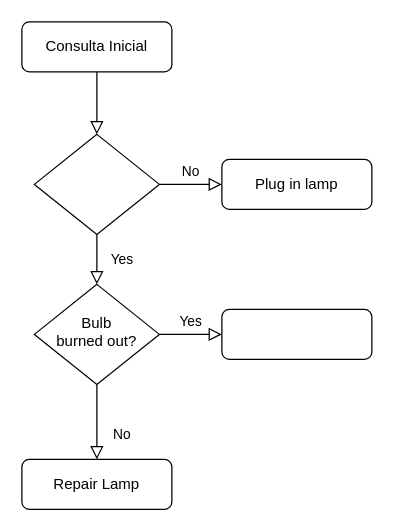
Some shapes in this 394 by 531 pixel diagram are drawn without their labels. Each missing label, with the centre of its shape:
"Lamp plugged in?" belongs at (x=96, y=183).
"Replace Bulb" belongs at (x=296, y=333).
